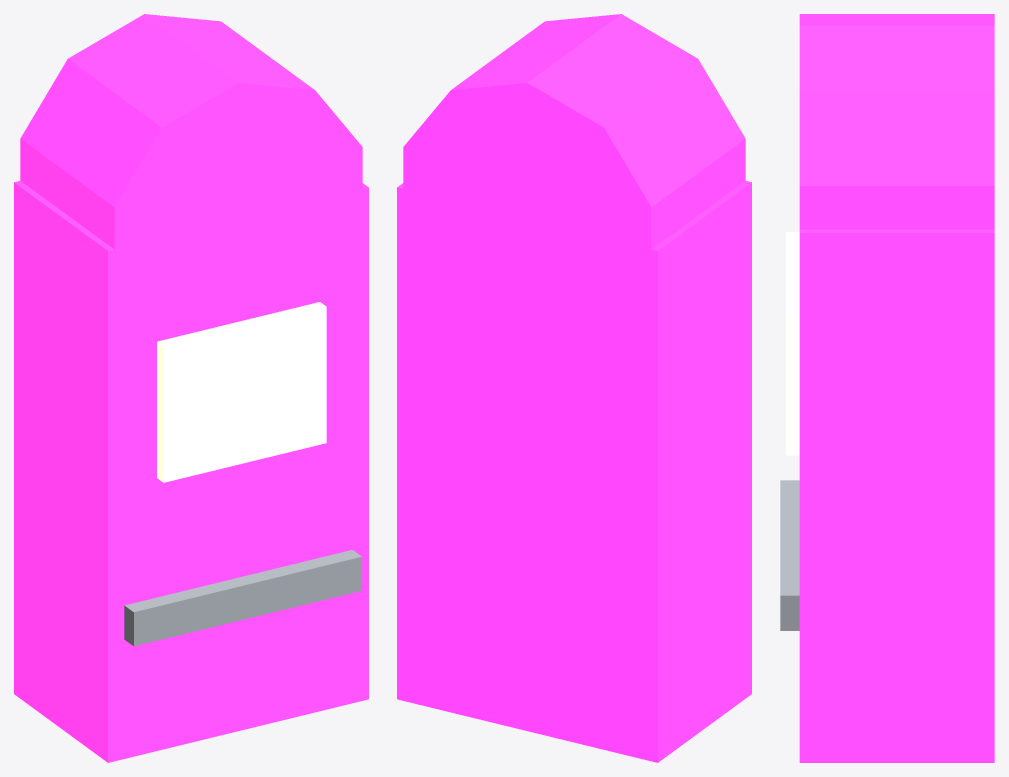
Rendered from arcade_jukebox.fbx.
The picture shows the model from 3 angles, left to right: view 1: azimuth 30°, elevation 25°; view 2: azimuth 150°, elevation 25°; view 3: azimuth 270°, elevation 25°; orthographic projection. The views are drawn at different scales.
Parts seen in each view (by area): view 1: arcade_jukebox; view 2: arcade_jukebox; view 3: arcade_jukebox.
Part boxes in pixels (x1,y1,x2,y2): arcade_jukebox: (14, 14, 368, 762); arcade_jukebox: (397, 14, 751, 762); arcade_jukebox: (780, 14, 994, 762).
Bounding box in the file's own units: 0.8 × 1.9 × 0.55.
